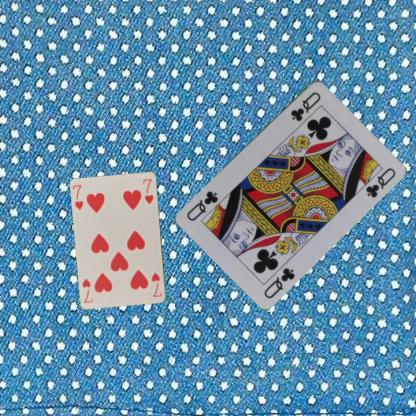7h: (70, 182, 85, 212), (149, 271, 163, 298)
Qc: (262, 264, 296, 300), (288, 88, 322, 122)
